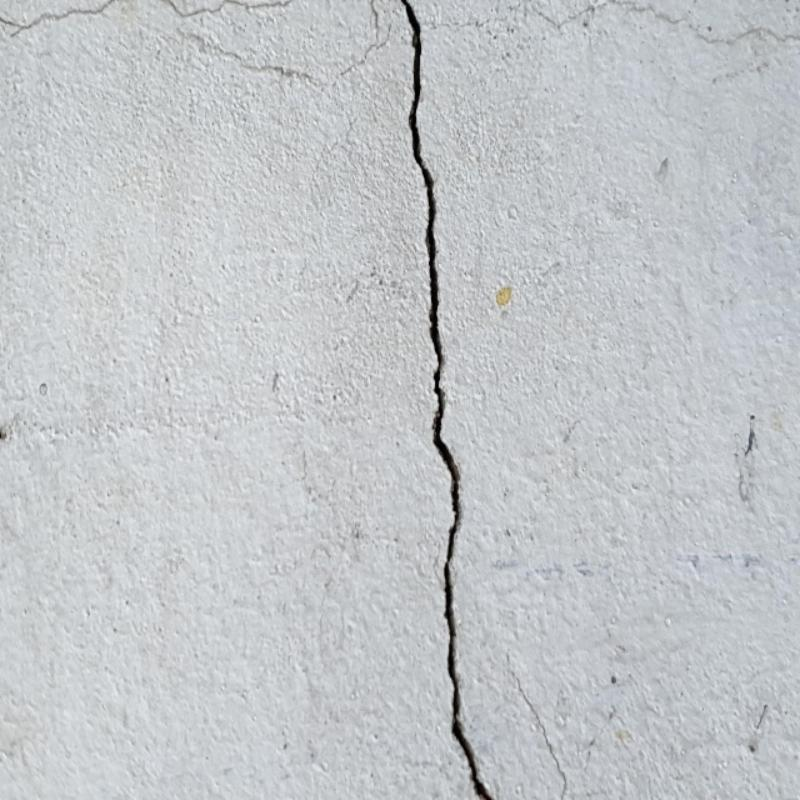pothole: (399, 0, 497, 799)
